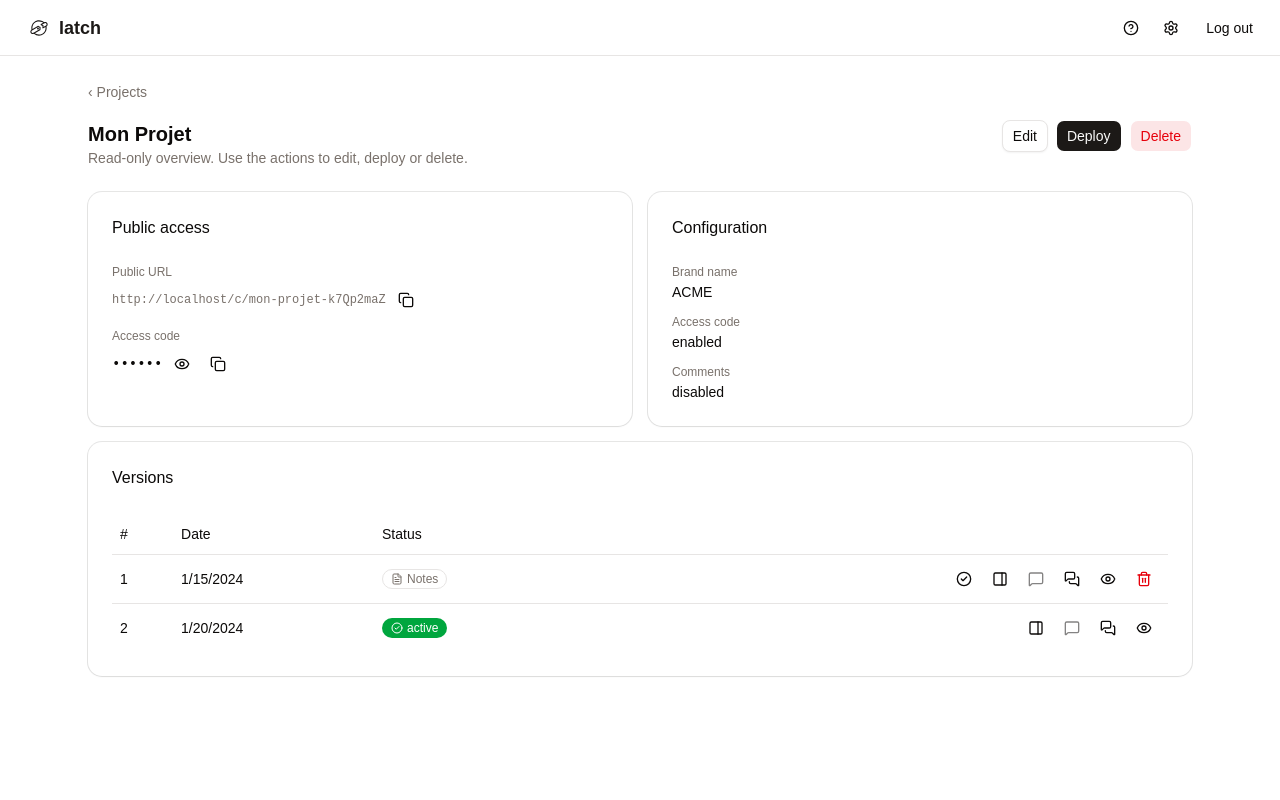
Test: DetailPage › replaces the notes emoji with an icon and opens the version detail panel
The image size is (1280, 800).
Expected: the text "Versions" is shown, 112,469 -> 173,486
Note: The Detail button opens the panel → release notes rendered as heading
Click the button named "Details" in the row of "1/15/2024". click: (1000, 578)
box: 984,562 -> 1016,594
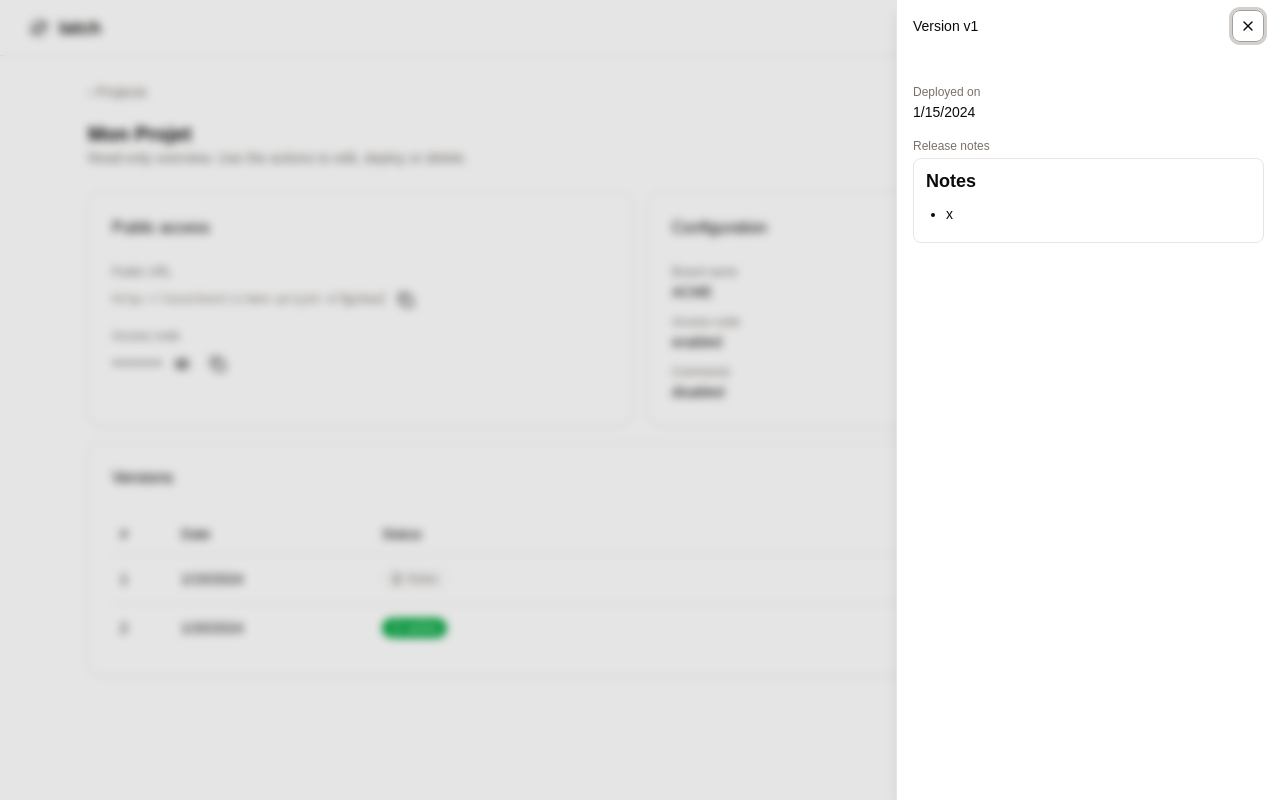
Expected: the heading "Notes" is shown, 926,171 -> 976,191
